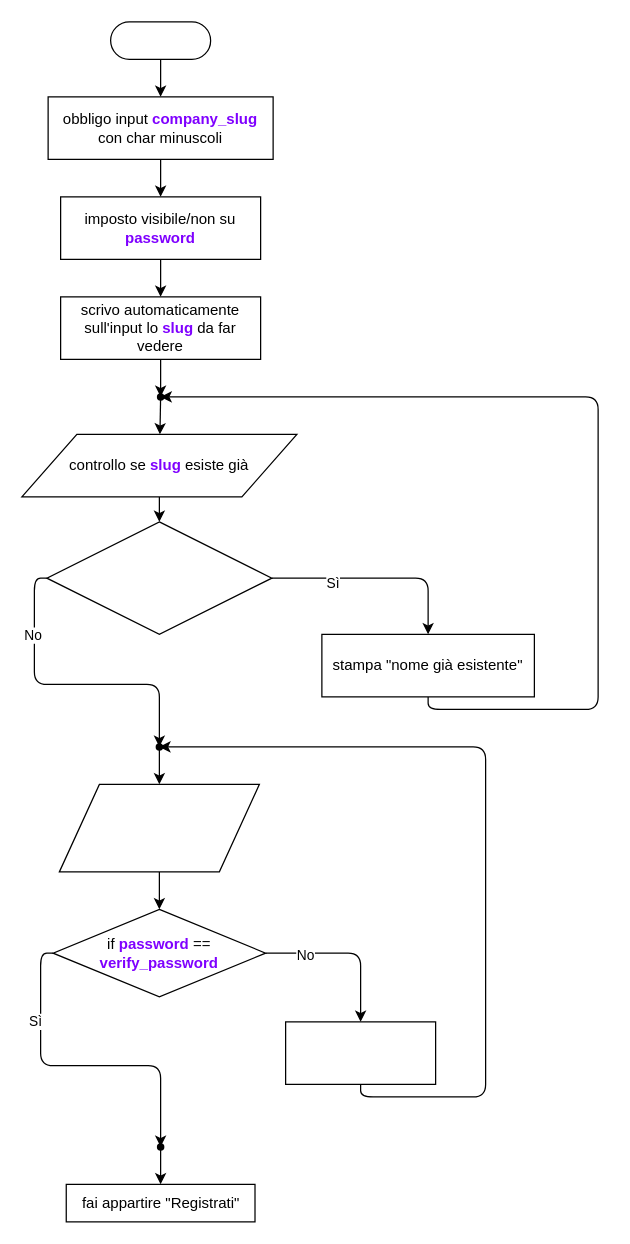
Image size: 630x1244. Some labels were removed from this diagram. The centre of each missing label's shape, as x and y in pixels:
if company_slug == slug[i]: point 159,577
stampa "le 2 password non corrispondono": point 360,1052
start: point 160,40
valido se password corrisponde a verify_password: point 158,827
